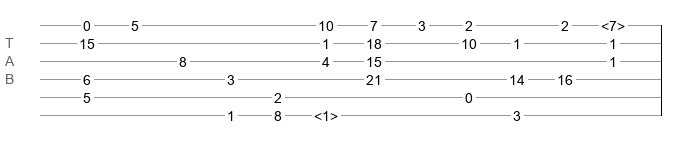0: (83, 18, 91, 28), (465, 90, 473, 100)
1: (227, 108, 235, 118), (322, 36, 330, 46), (513, 36, 521, 46), (609, 36, 617, 46), (609, 54, 617, 64)
10: (318, 18, 334, 28), (461, 36, 477, 46)
14: (509, 72, 525, 82)
15: (79, 36, 95, 46), (366, 54, 382, 64)
16: (557, 72, 573, 82)
18: (366, 36, 382, 46)
2: (274, 90, 282, 100), (465, 18, 473, 28), (561, 18, 569, 28)
21: (366, 72, 382, 82)
3: (227, 72, 235, 82), (418, 18, 426, 28), (513, 108, 521, 118)
4: (322, 54, 330, 64)
5: (83, 90, 91, 100), (131, 18, 139, 28)
6: (83, 72, 91, 82)
7: (370, 18, 378, 28)
8: (179, 54, 187, 64), (274, 108, 282, 118)
harmonic: (314, 108, 338, 118), (601, 18, 625, 28)
